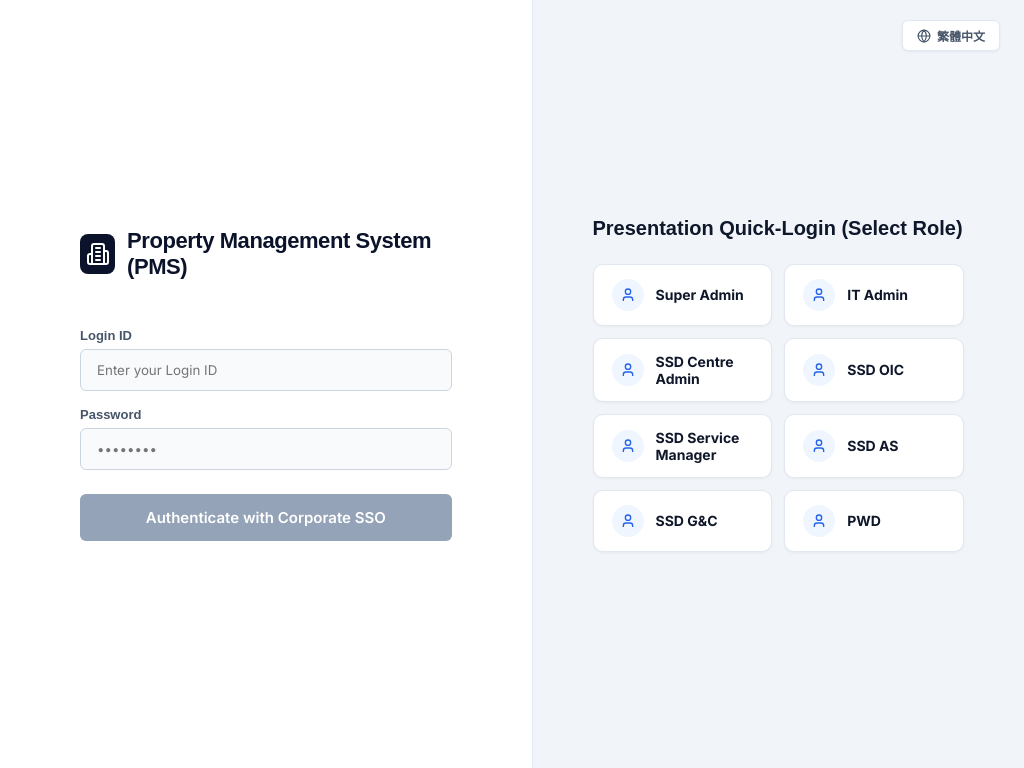
Test: AuthContext › SERVICE_MANAGER cannot create WOs
Click the button "SSD Service Manager".
click(682, 446)  # box [592,414,772,478]
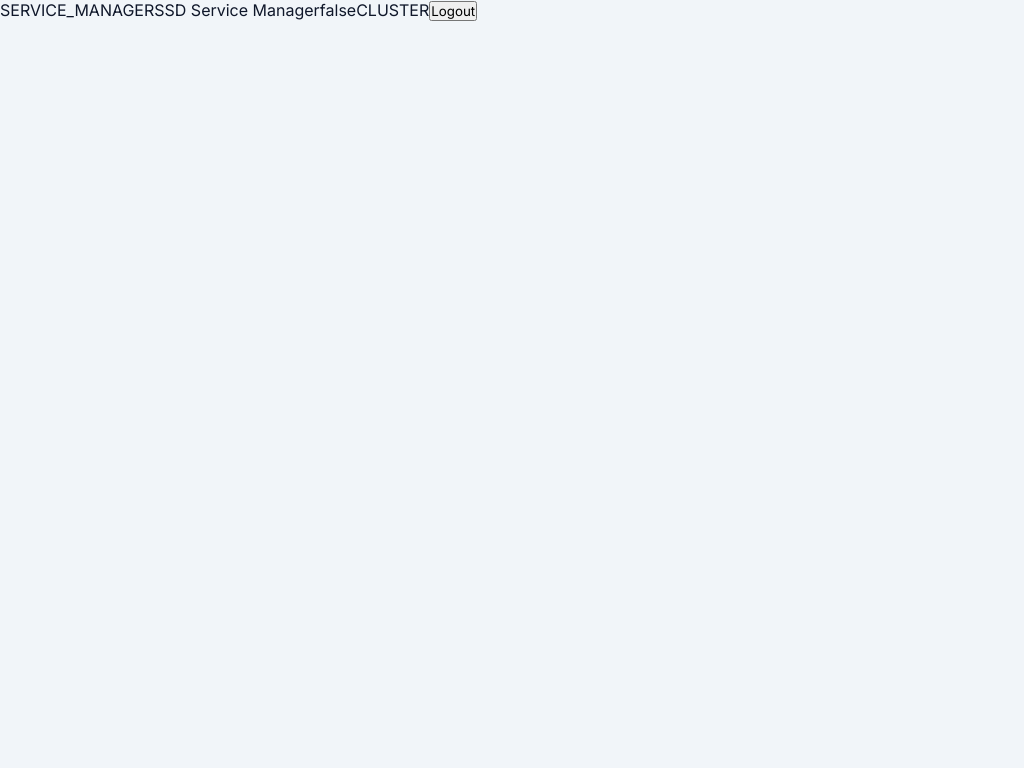
expect the text with test id "canCreate" reads "false": met, box [320,0,356,20]
expect the text with test id "scope" reads "CLUSTER": met, box [356,0,429,20]
